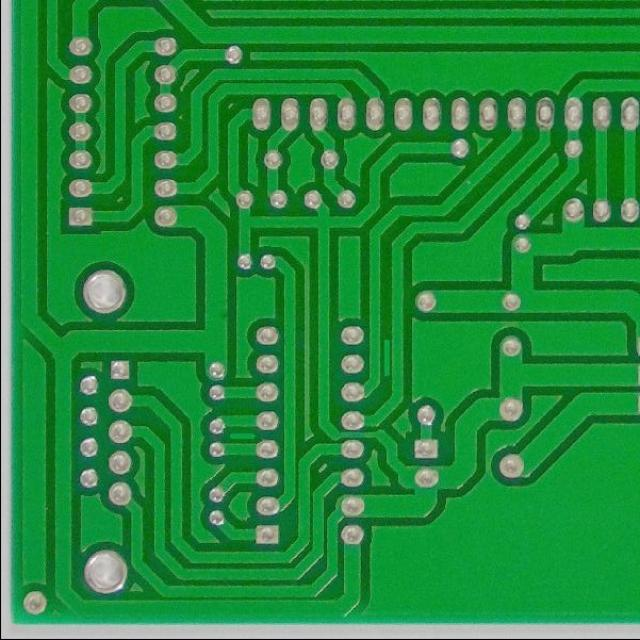spurious_copper: (374, 337, 396, 382), (225, 427, 258, 447)
